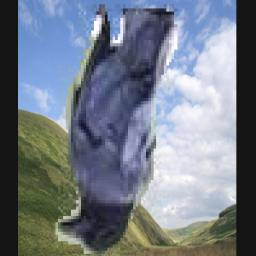Crow: (53, 5, 177, 256)
